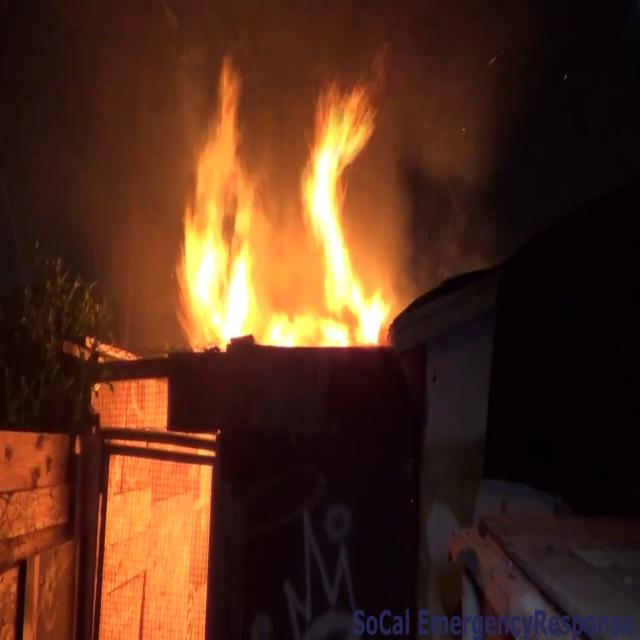Fire: (166, 50, 404, 349)
